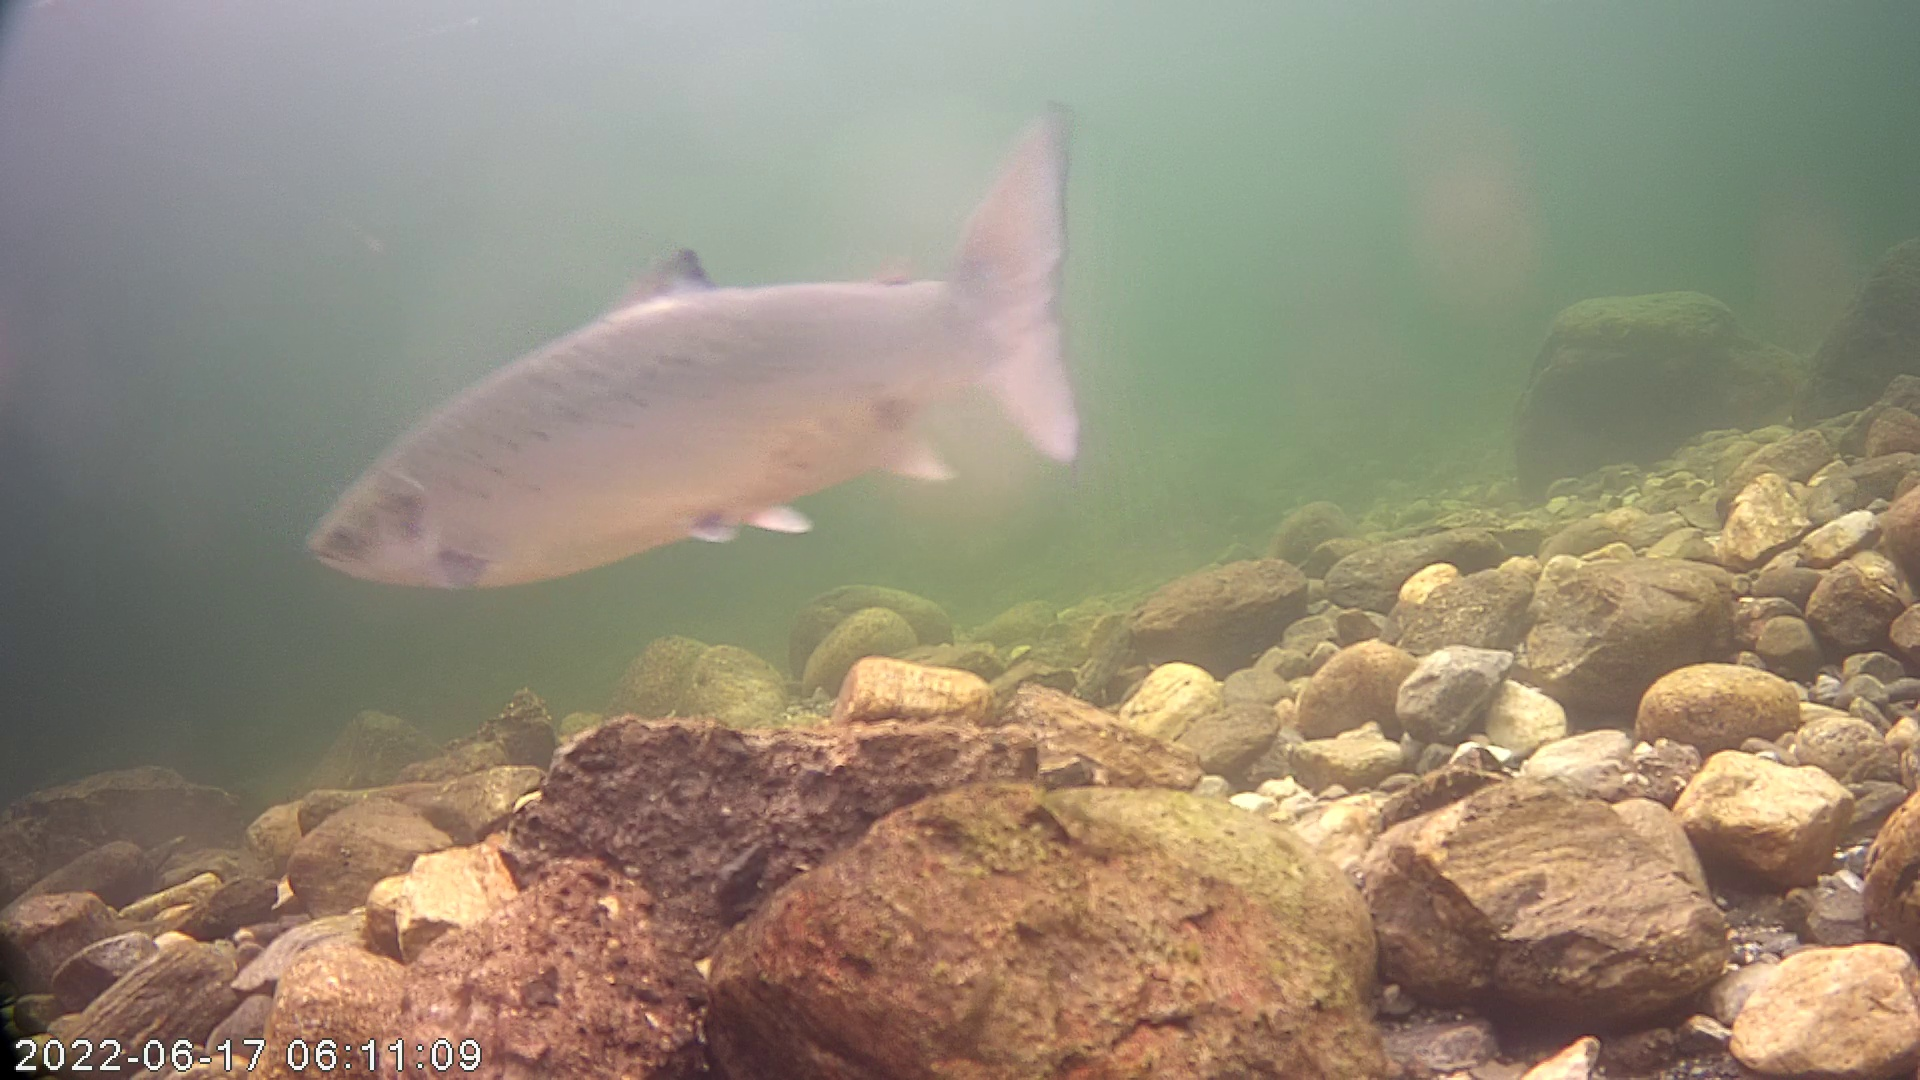salmon: (301, 98, 1088, 595)
